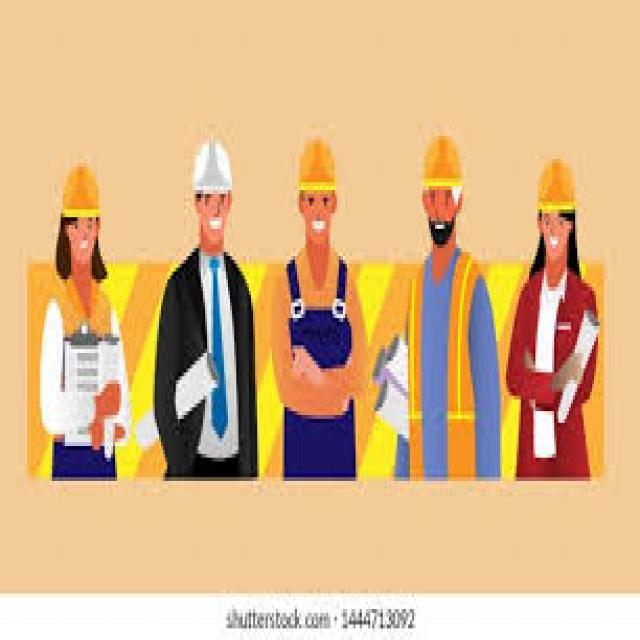Reflective-Jacket: (406, 244, 485, 485)
Safety-Helmet: (414, 120, 467, 198), (291, 124, 341, 202), (54, 151, 104, 229), (534, 151, 580, 221), (188, 132, 236, 198)
